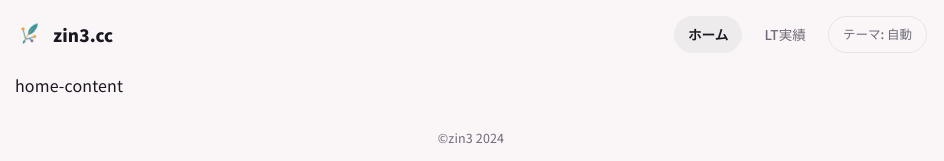
Test: Layout › テーマ切替ボタンでラベルが循環する
The width and height of the screenshot is (944, 161).
Click the button "テーマ: 自動" at (878, 34), box left=828, top=16, right=927, bottom=53
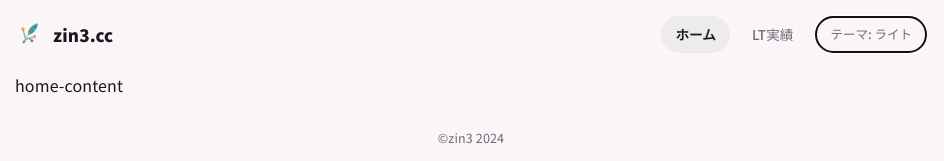
Check: the button "テーマ: ライト" is shown, box left=816, top=16, right=927, bottom=53
